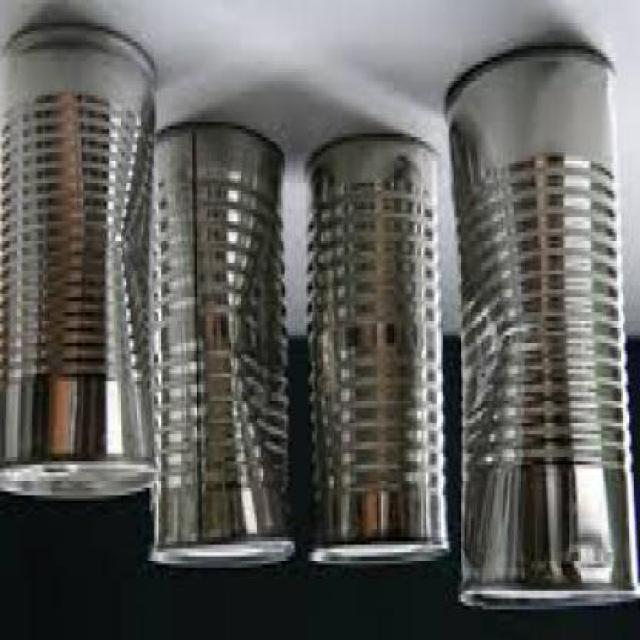METAL: (444, 41, 638, 614), (0, 23, 154, 503), (145, 122, 293, 568), (304, 133, 447, 572)
